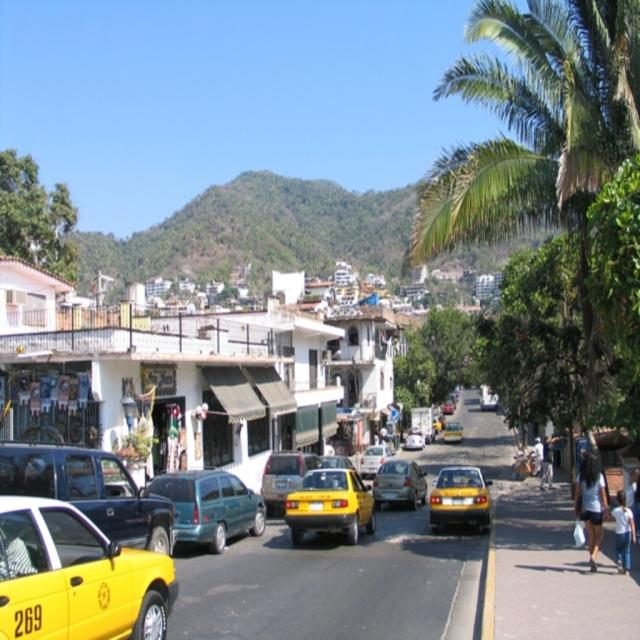car: (288, 463, 373, 536), (428, 463, 488, 532)
